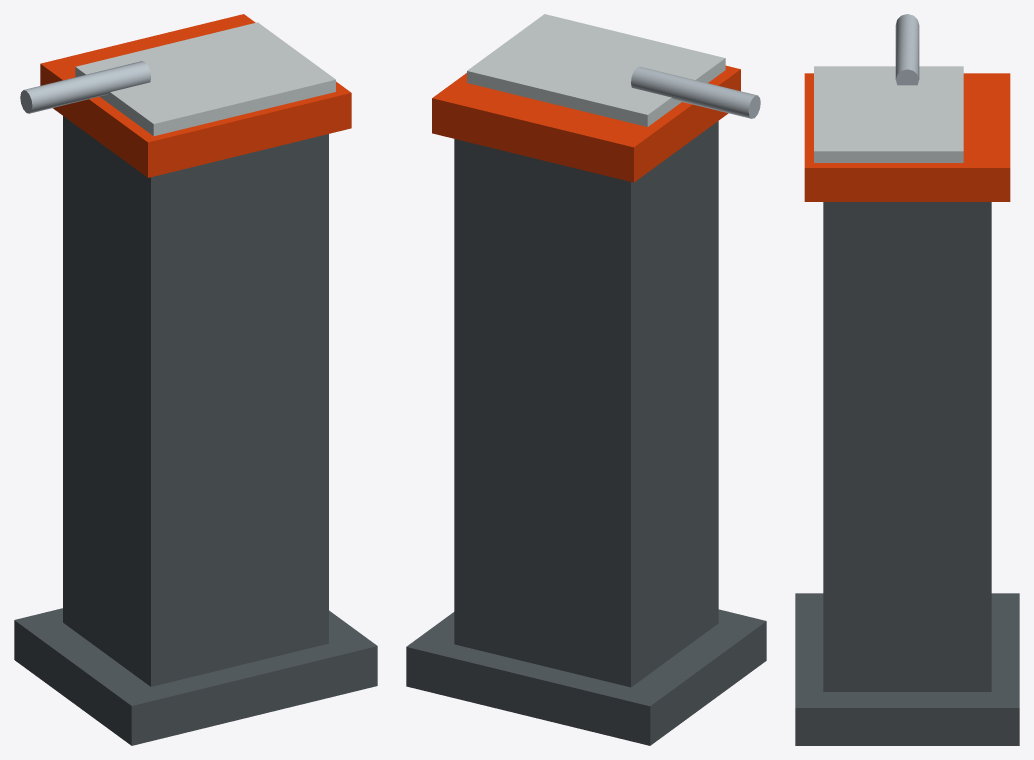
Rendered from bearing_loading_tool_stand.dae.
The picture shows the model from 3 angles, left to right: view 1: azimuth 30°, elevation 25°; view 2: azimuth 150°, elevation 25°; view 3: azimuth 270°, elevation 25°; orthographic projection. The views are drawn at different scales.
Parts seen in each view (by area): view 1: bearing_loading_tool_stand; view 2: bearing_loading_tool_stand; view 3: bearing_loading_tool_stand.
Boxes of the visible parts, left/top/right/bottom form: bearing_loading_tool_stand: left=14, top=14, right=377, bottom=745; bearing_loading_tool_stand: left=406, top=14, right=766, bottom=745; bearing_loading_tool_stand: left=795, top=14, right=1019, bottom=745.
Size of the model in its own units: 0.69 by 0.48 by 1.4.
